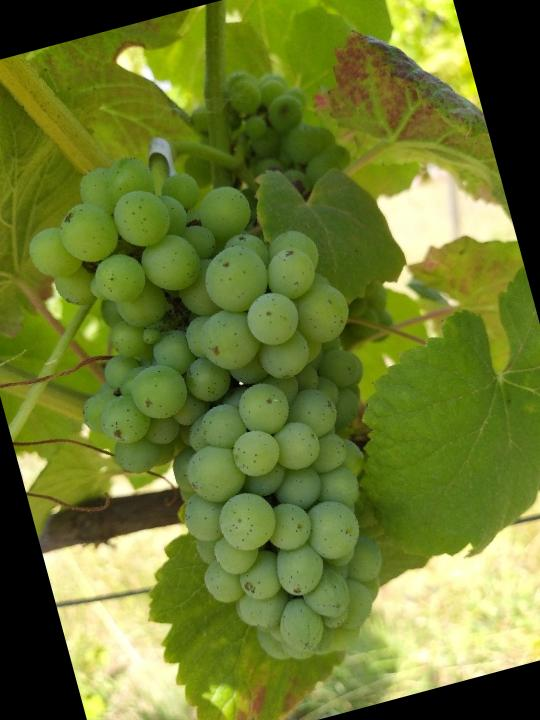grape: (12, 102, 443, 704)
